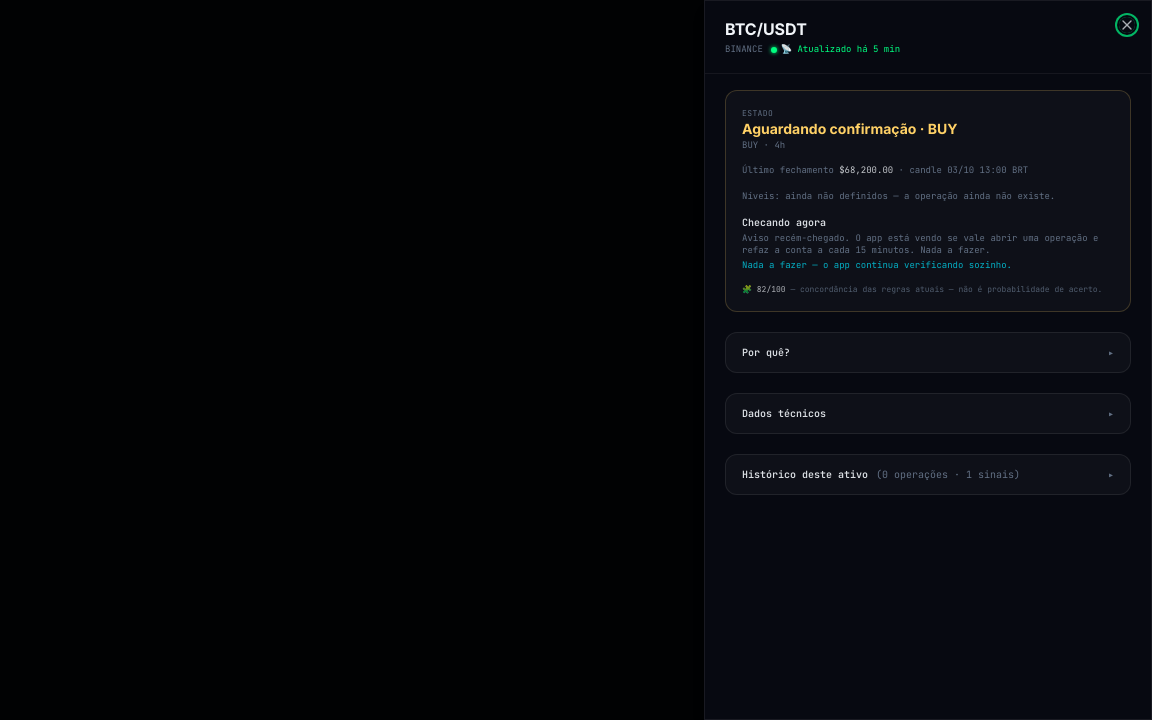
AssetDrawer N3 — "Dados técnicos" e "Histórico deste ativo" › "Dados técnicos" vem fechado e NÃO busca funding até ser aberto
This screenshot has width=1152, height=720.
Click the button "Dados técnicos ▸": (784,414) [726,394,1130,433]
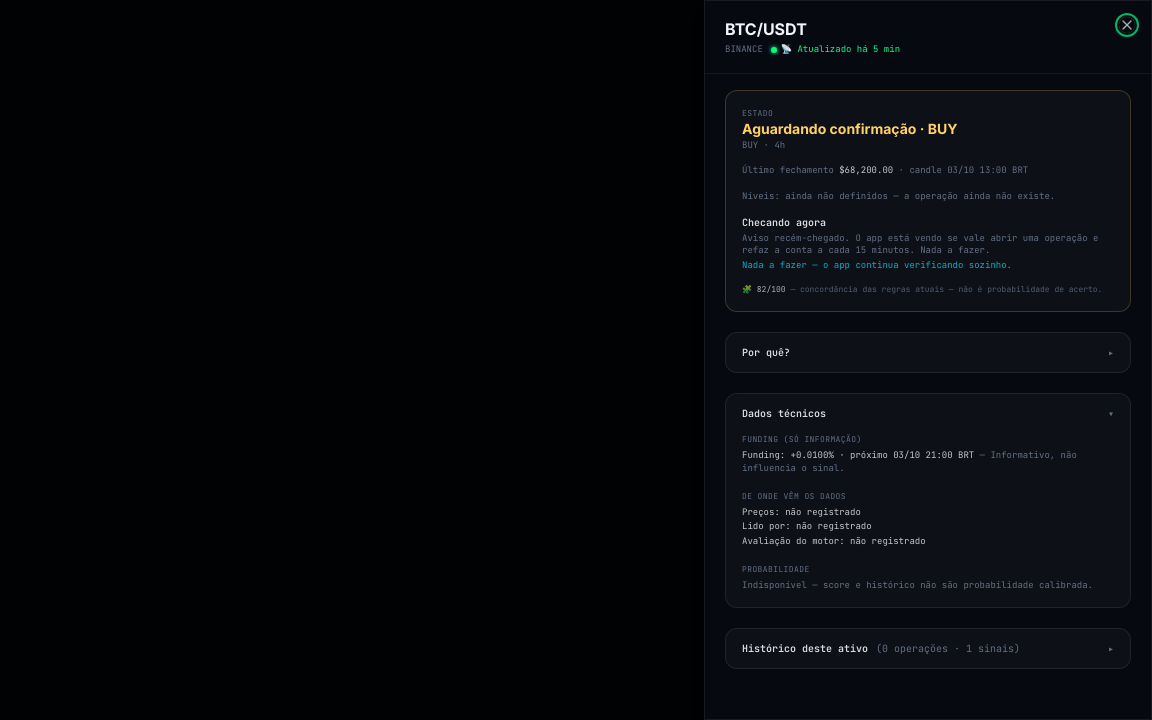
Check: the text "Funding: +0.0100%" is shown, box [742,449,1114,474]
Check: the text "— Informativo, não influencia o sinal." is shown, box [742,449,1077,474]
